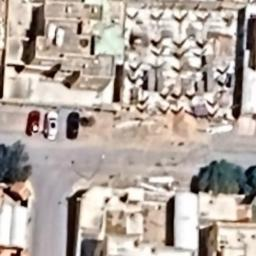sedan: (44, 109, 62, 142), (66, 109, 84, 141)
unknown: (22, 107, 42, 137)
